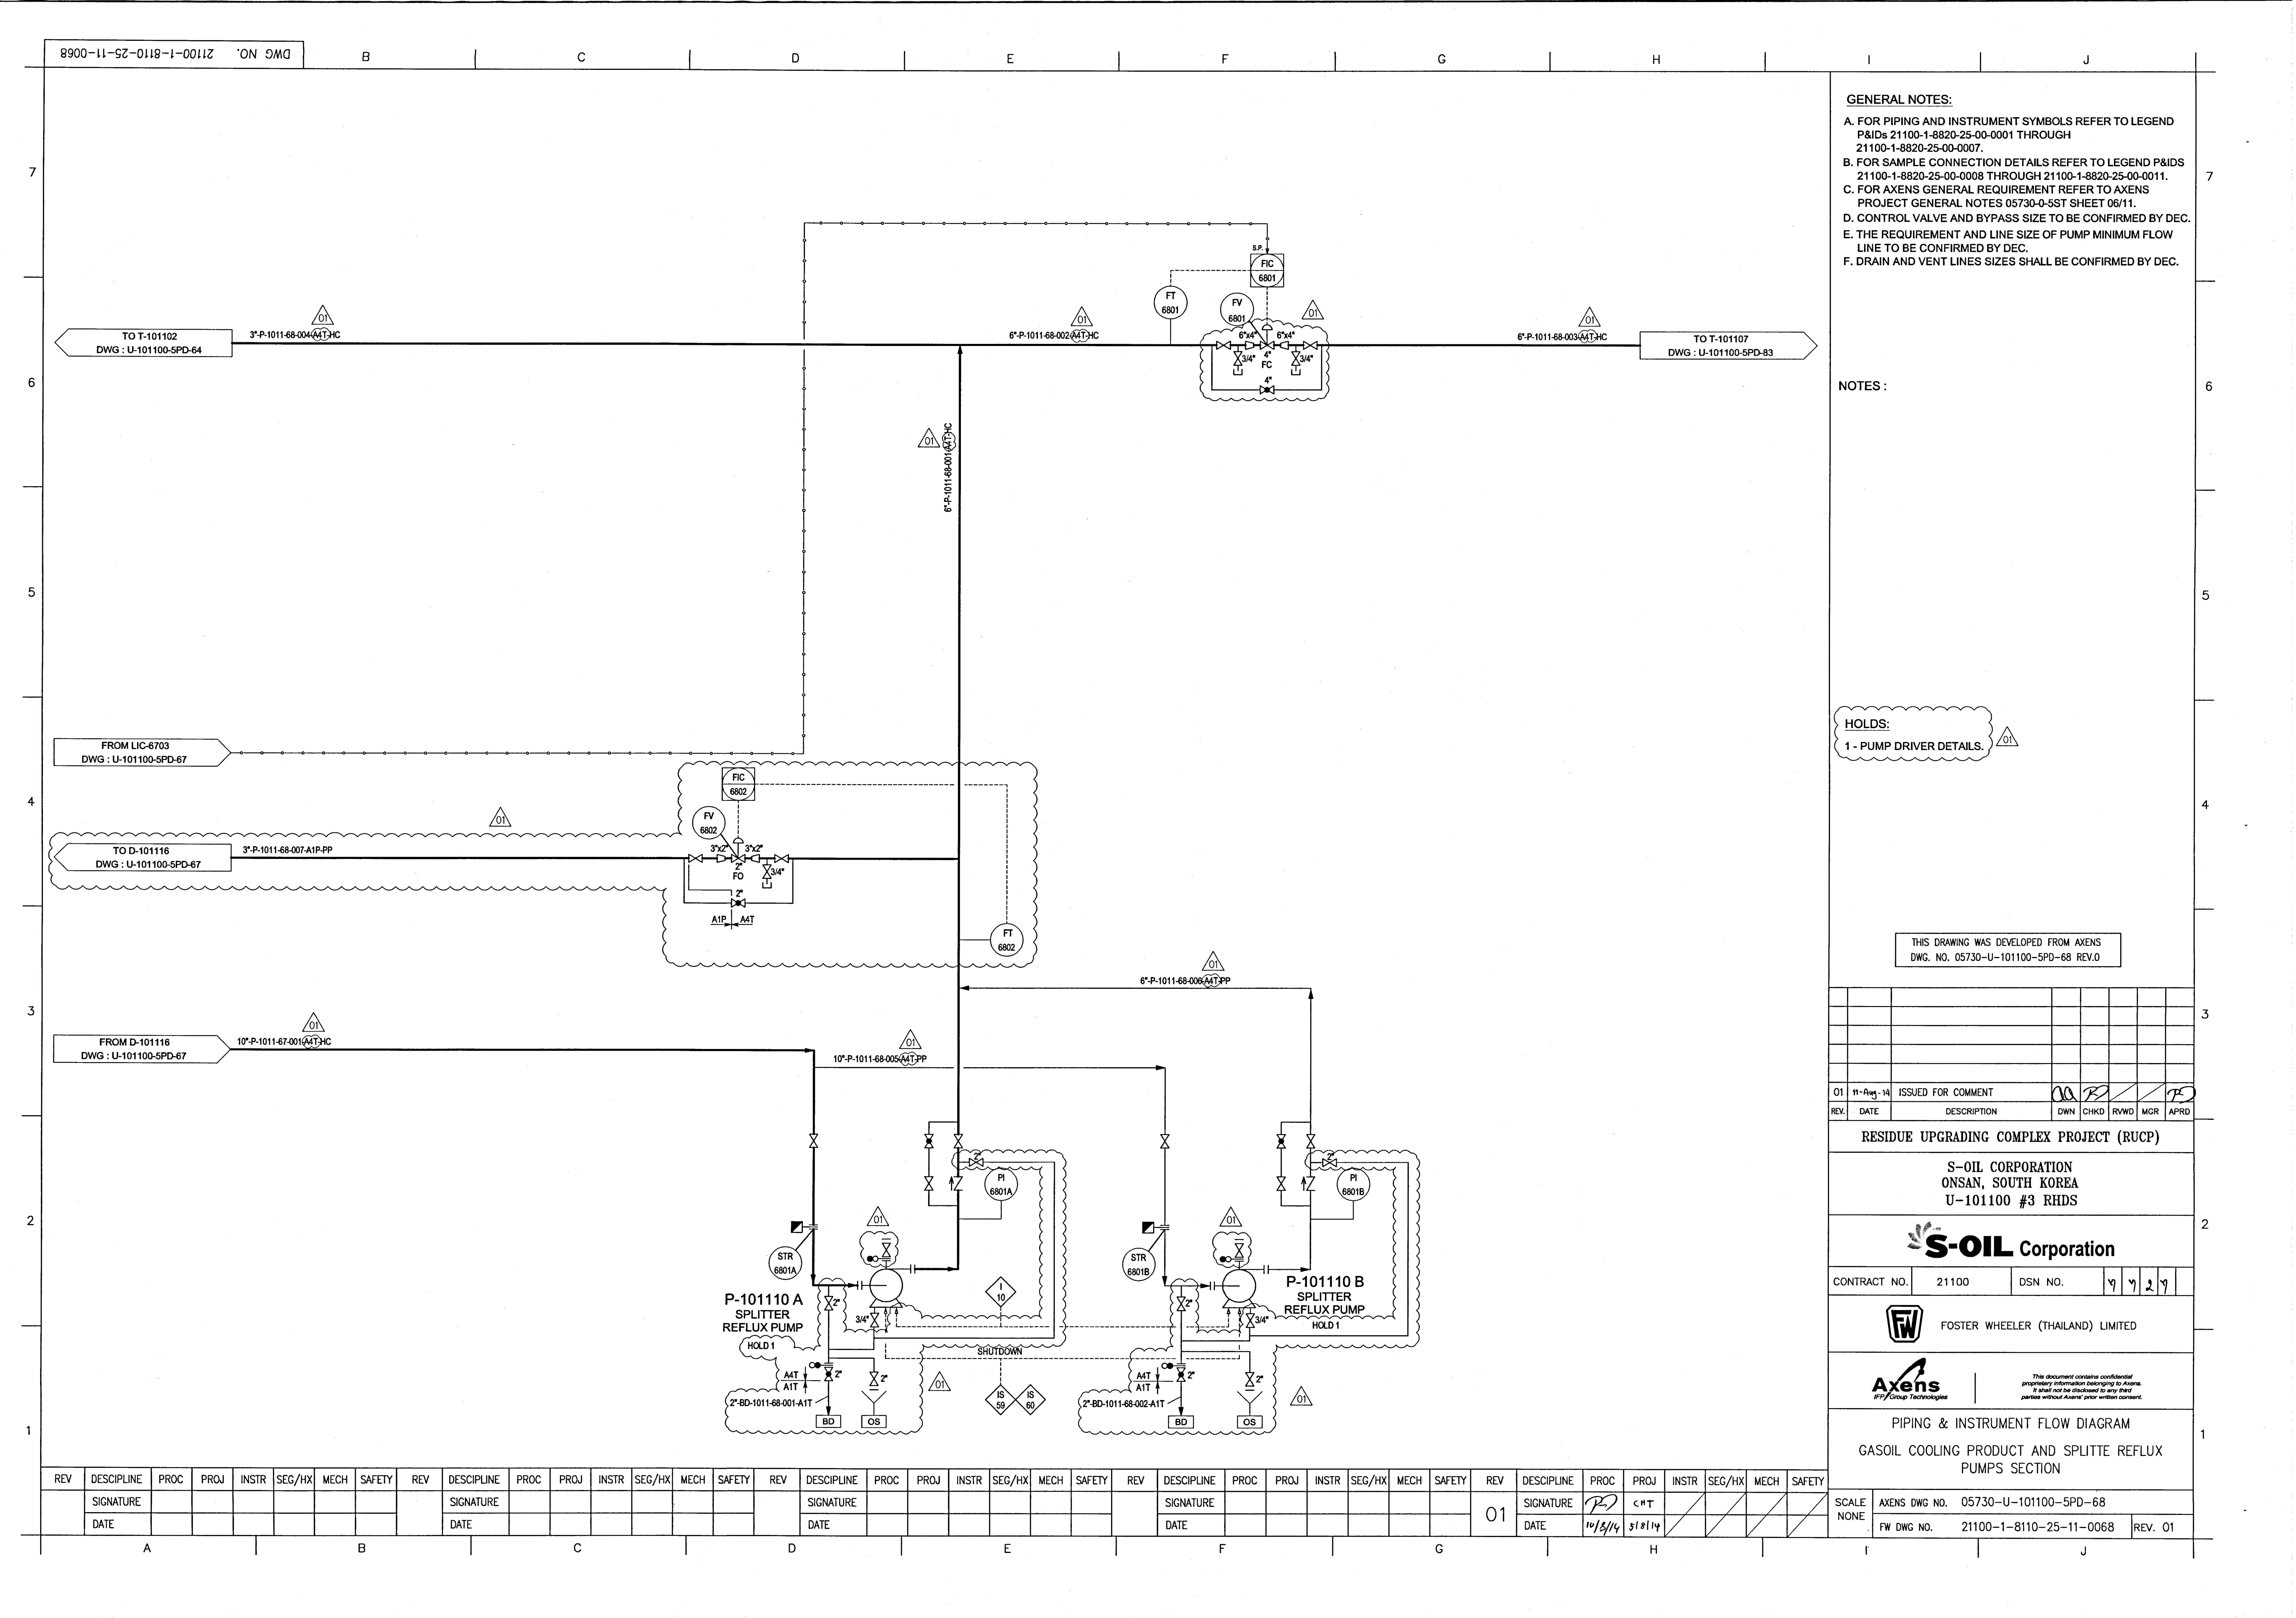butterfly0: (1257, 383, 1277, 396), (730, 897, 746, 909)
butterfly90: (1275, 1133, 1287, 1150), (923, 1133, 935, 1150), (1175, 1366, 1186, 1382), (823, 1366, 834, 1382)
reduce0: (1243, 340, 1256, 350), (716, 853, 727, 863)
reduce180: (1278, 340, 1291, 352), (750, 853, 762, 865)
valvecontrol90: (1257, 322, 1277, 350), (730, 837, 748, 863)
